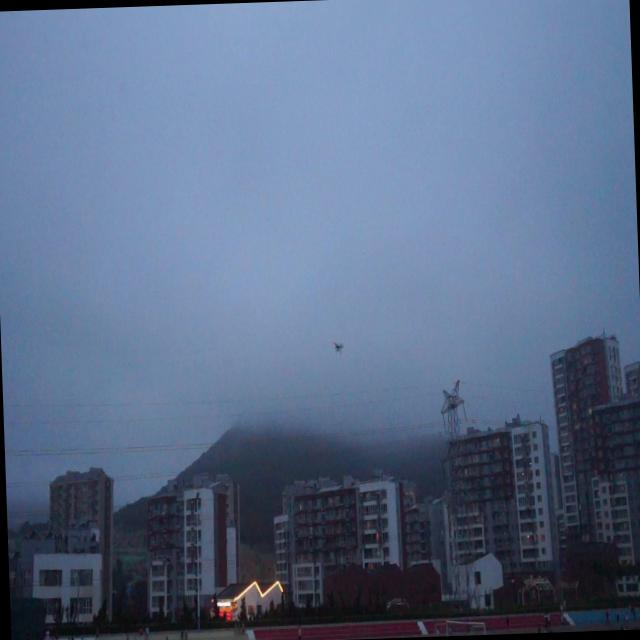drone: (329, 337, 346, 356)
